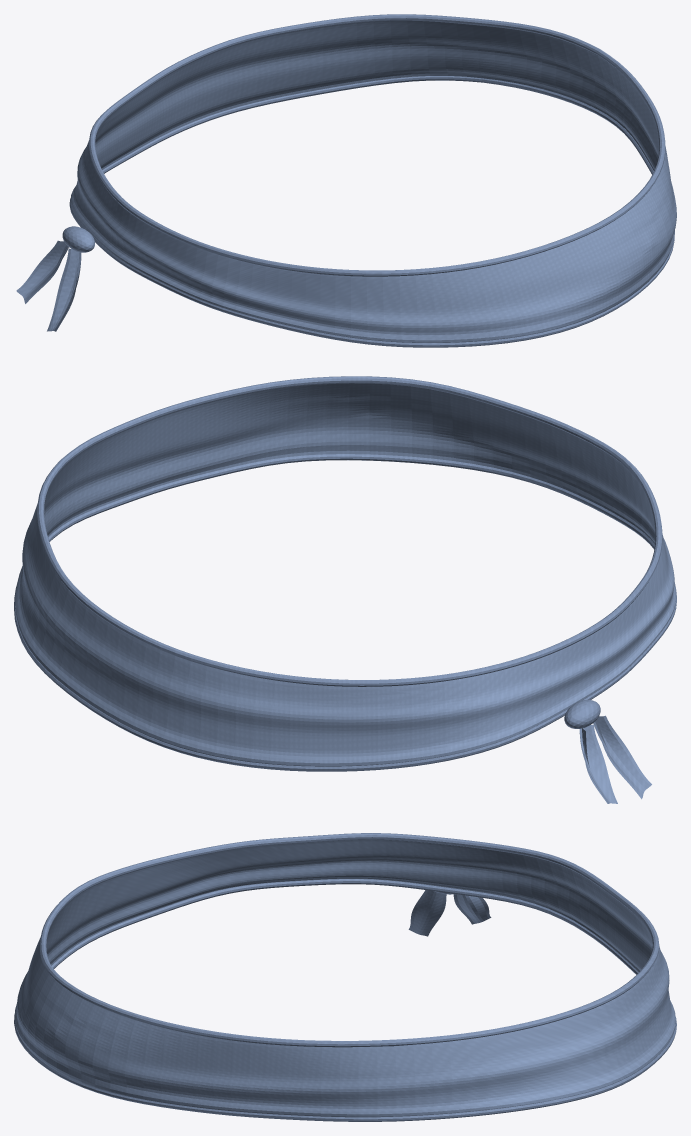
File: side_sailor_hachimaki.glb
3 renders of one model, top to bottom at view 1: azimuth 30°, elevation 25°; view 2: azimuth 150°, elevation 25°; view 3: azimuth 270°, elevation 25°, orthographic. The views are drawn at different scales.
Parts seen in each view (by area): view 1: woven_cloth, inner_cloth, folded_edge, wrap_ties; view 2: woven_cloth, inner_cloth, folded_edge, wrap_ties; view 3: woven_cloth, inner_cloth, folded_edge, wrap_ties.
Boxes of the visible parts, x1=… form: woven_cloth: x1=70, y1=141, x2=676, y2=342; inner_cloth: x1=95, y1=20, x2=659, y2=170; folded_edge: x1=62, y1=14, x2=674, y2=347; wrap_ties: x1=16, y1=240, x2=81, y2=331; woven_cloth: x1=15, y1=504, x2=676, y2=766; inner_cloth: x1=44, y1=383, x2=655, y2=543; folded_edge: x1=14, y1=376, x2=676, y2=771; wrap_ties: x1=579, y1=715, x2=651, y2=803; woven_cloth: x1=14, y1=936, x2=675, y2=1117; inner_cloth: x1=46, y1=839, x2=652, y2=971; folded_edge: x1=14, y1=833, x2=676, y2=1121; wrap_ties: x1=408, y1=890, x2=491, y2=936.
Bounding box in the file's own units: 18.92 × 5.35 × 19.02.
Materials: 4 (4 with a texture image).
